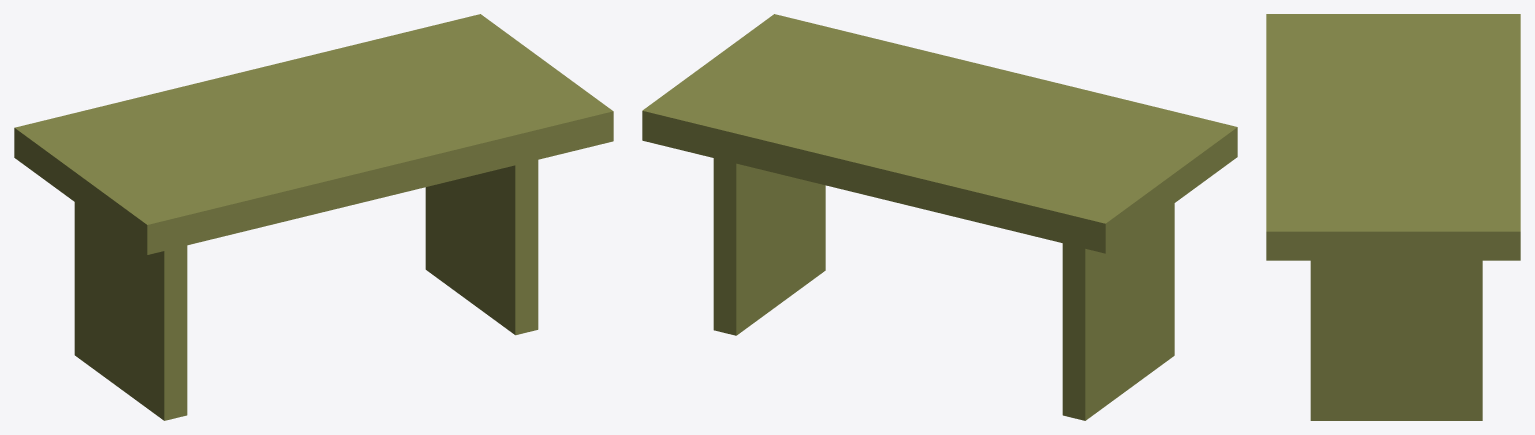
The model's file is Nhà-2.obj.
3 renders of one model, left to right at view 1: azimuth 30°, elevation 25°; view 2: azimuth 150°, elevation 25°; view 3: azimuth 270°, elevation 25°, orthographic. The views are drawn at different scales.
Bounding box in the file's own units: 8.1 × 3.7 × 4.
1 material, 1 textured.
